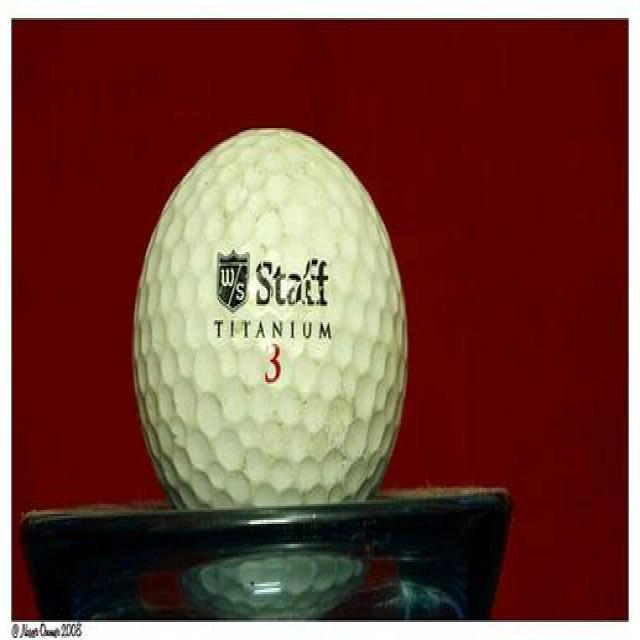golfball: (115, 130, 416, 588)
